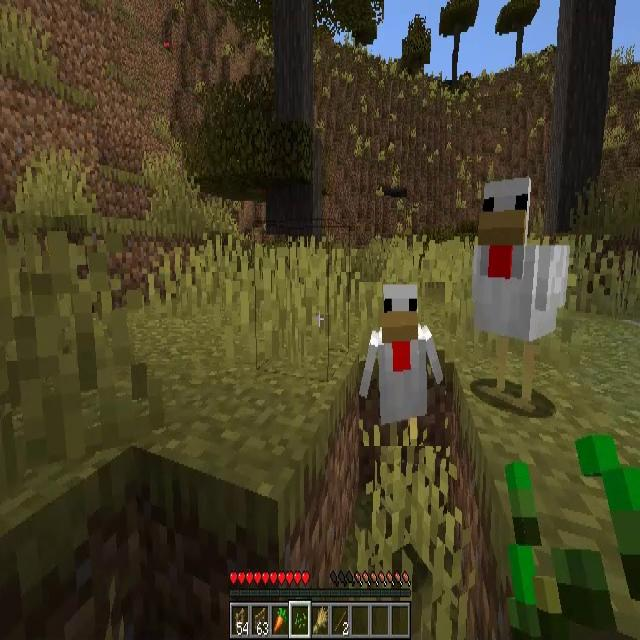duck: (473, 182, 571, 411), (360, 282, 446, 446)
